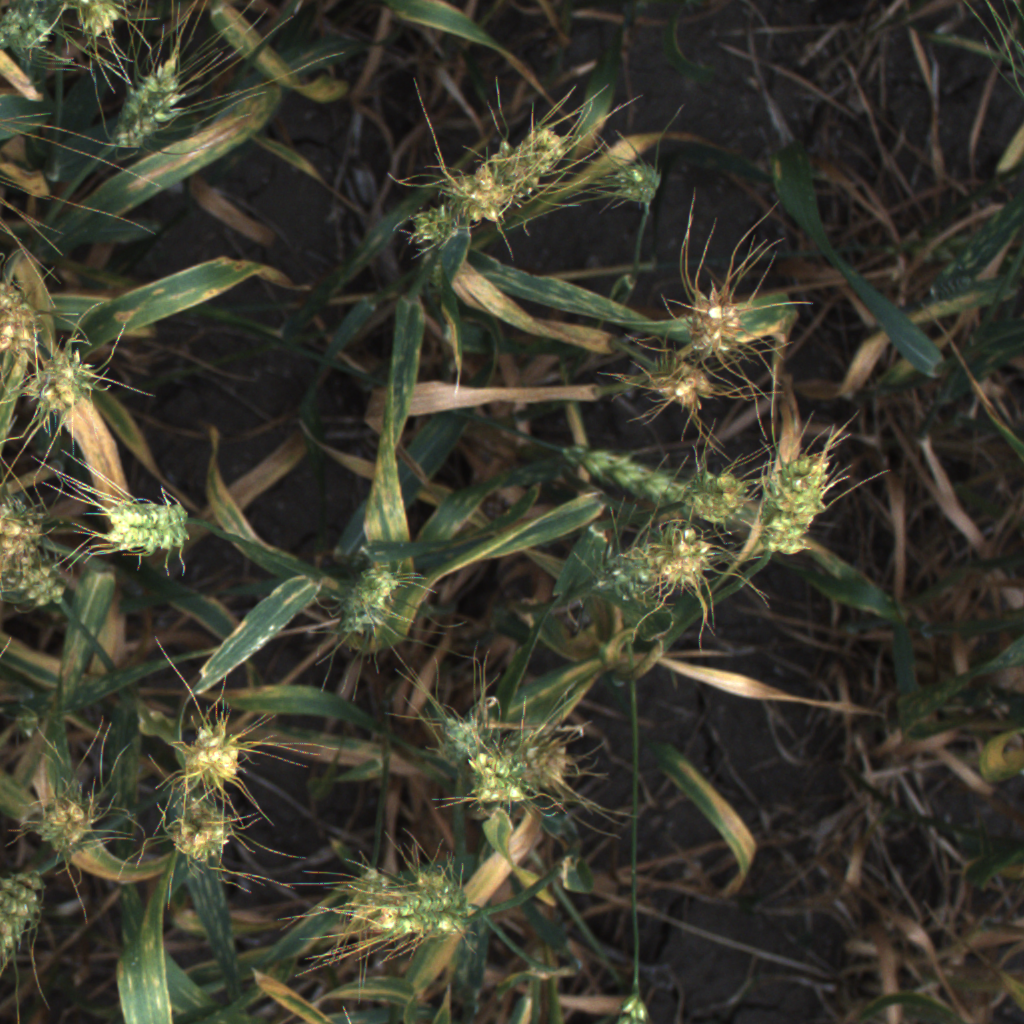wheat_head: (406, 116, 571, 247), (594, 524, 730, 616), (554, 428, 704, 510), (316, 552, 423, 658), (756, 440, 837, 572), (666, 272, 763, 375), (13, 320, 106, 426), (90, 485, 207, 567), (104, 53, 185, 159), (165, 707, 258, 793), (633, 346, 729, 419), (0, 259, 59, 372), (343, 861, 461, 916), (0, 862, 52, 982), (157, 799, 245, 868), (347, 901, 478, 945), (1, 527, 71, 609), (25, 786, 101, 856), (433, 698, 501, 774), (688, 457, 752, 529), (456, 762, 537, 814), (0, 489, 64, 551), (612, 153, 672, 214), (2, 2, 54, 56), (601, 984, 668, 1024), (72, 0, 128, 44)
